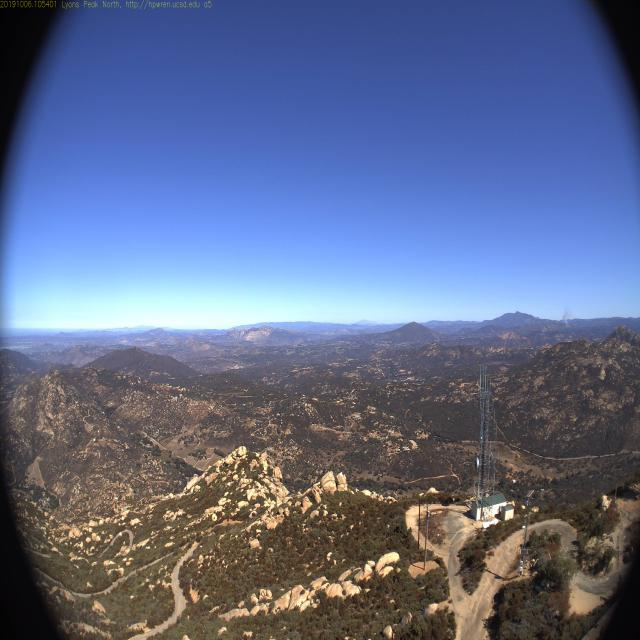smoke: (558, 302, 572, 326)
